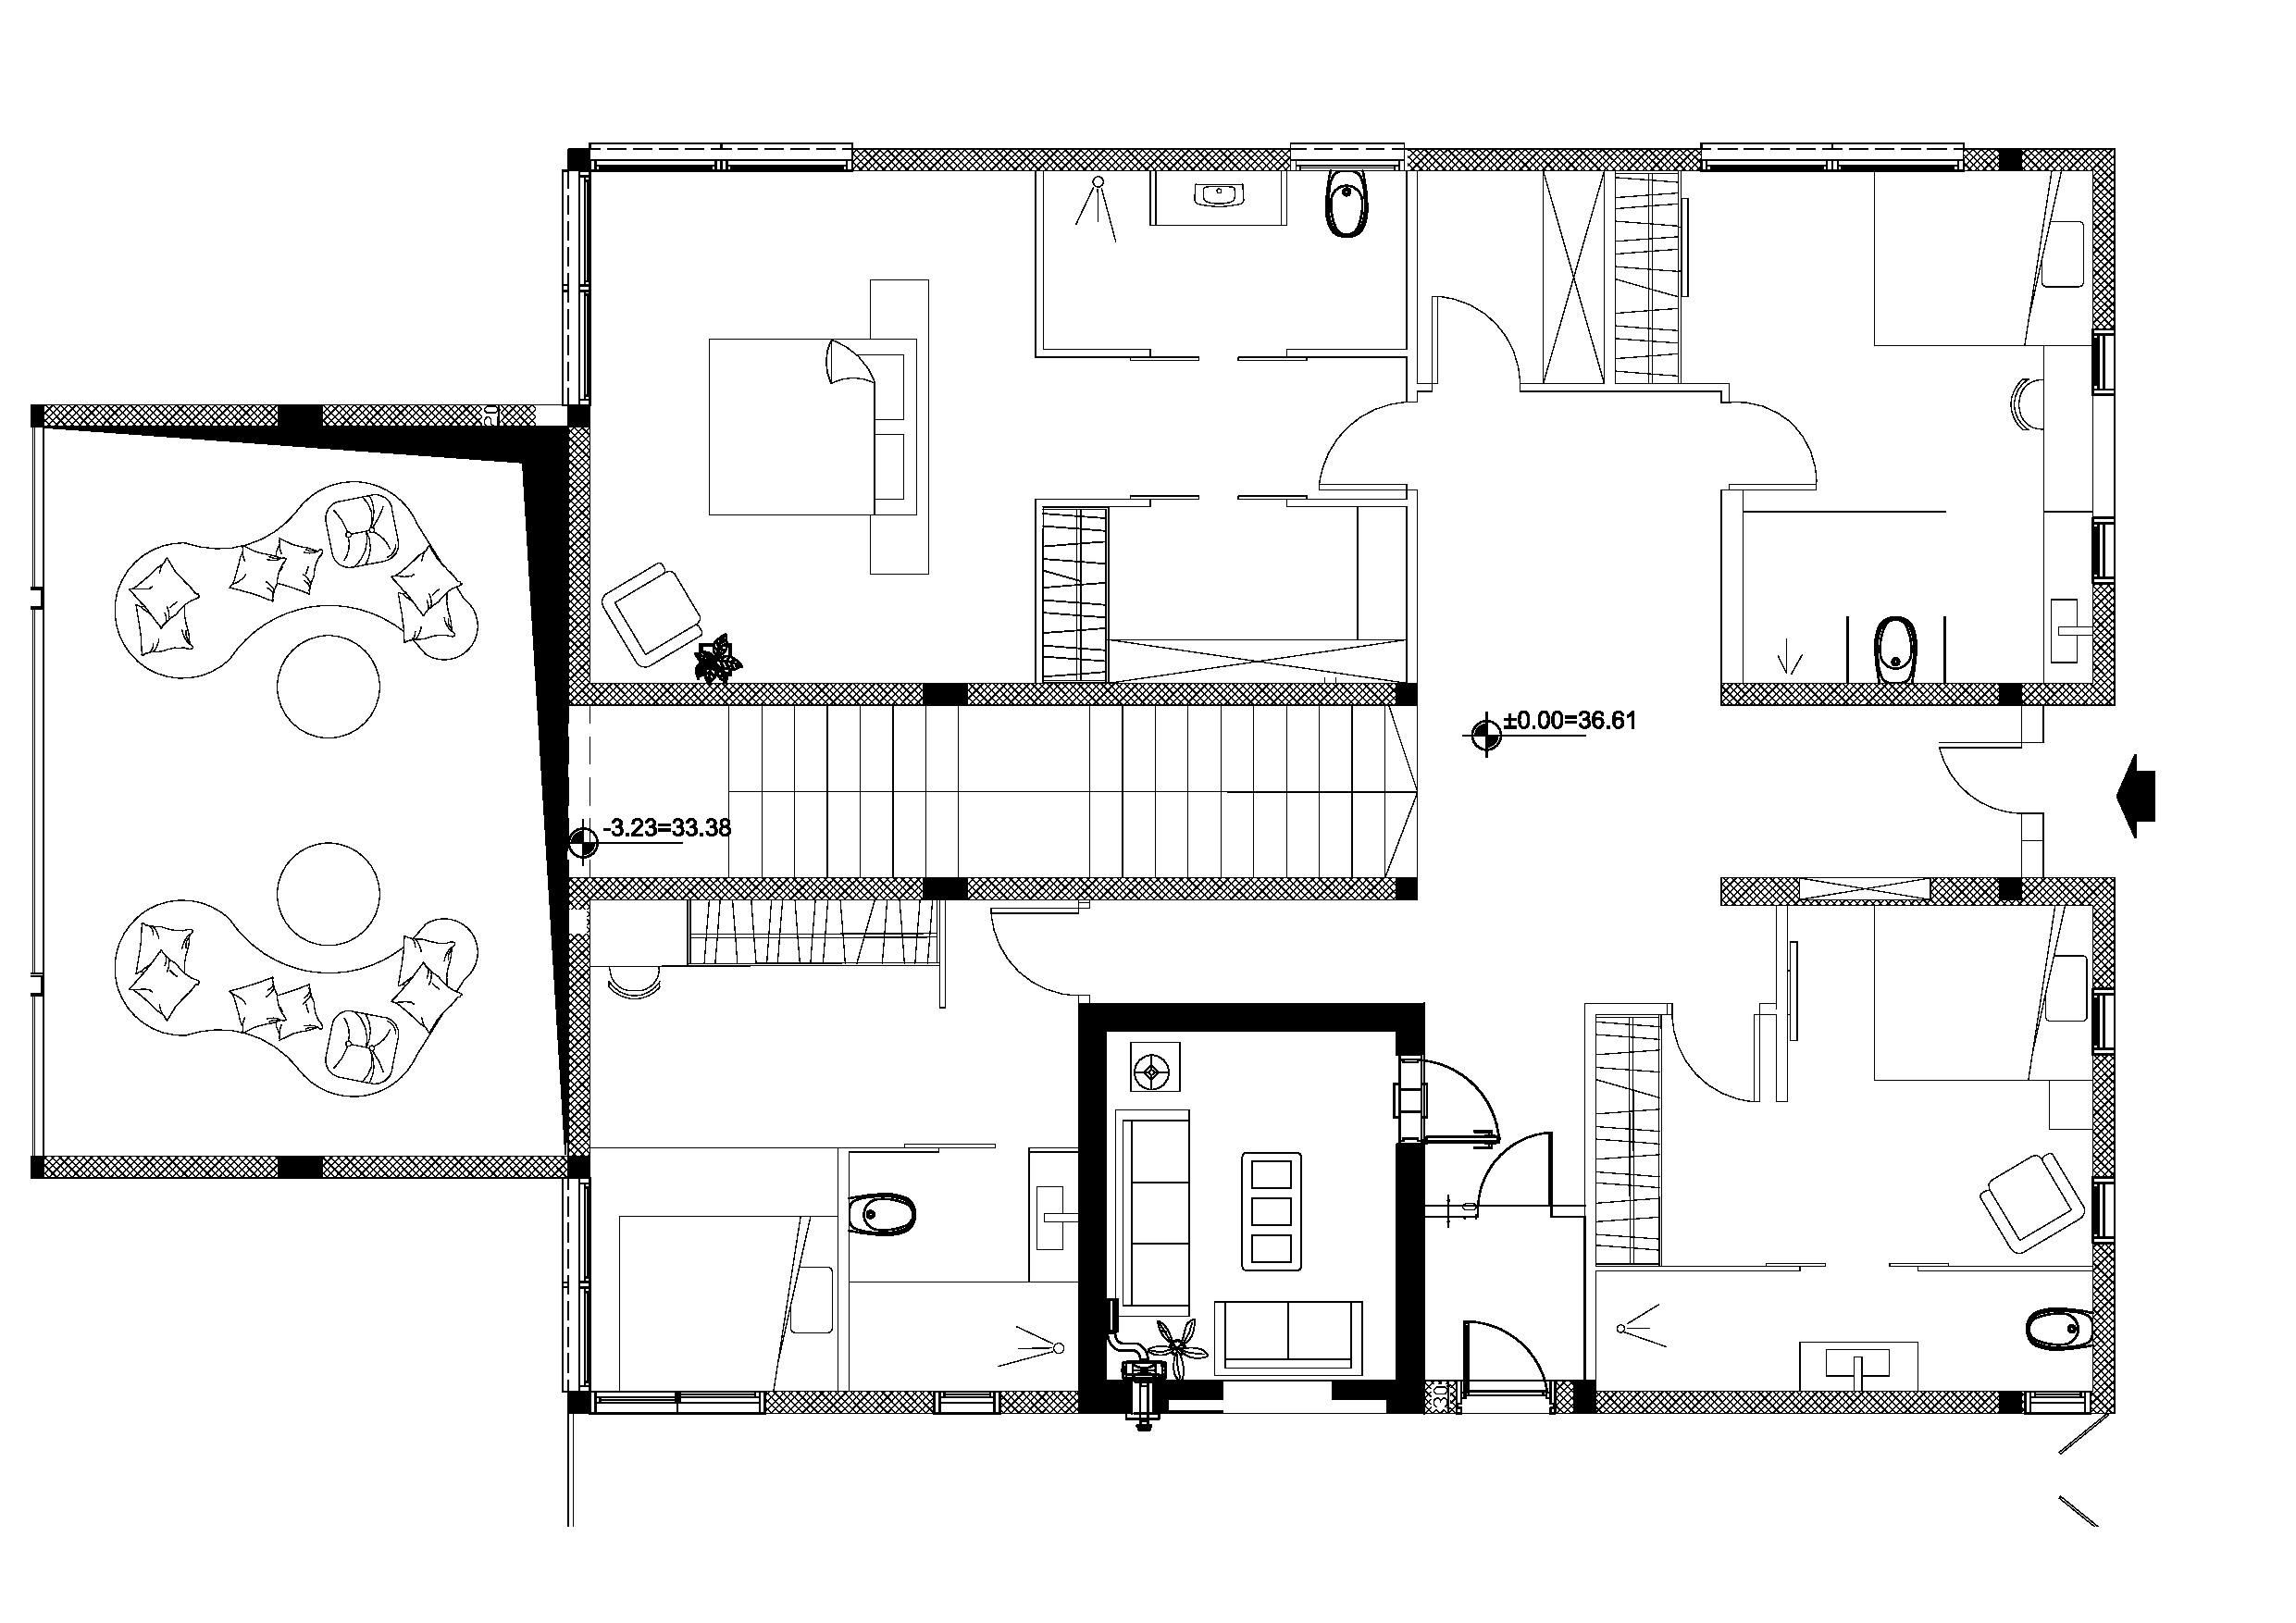door: (1723, 395, 1830, 506), (1298, 393, 1407, 488), (1669, 1024, 1769, 1117), (975, 906, 1077, 996), (1929, 734, 2031, 815), (1425, 292, 1518, 378), (1476, 1131, 1569, 1212), (1455, 1314, 1544, 1384)
